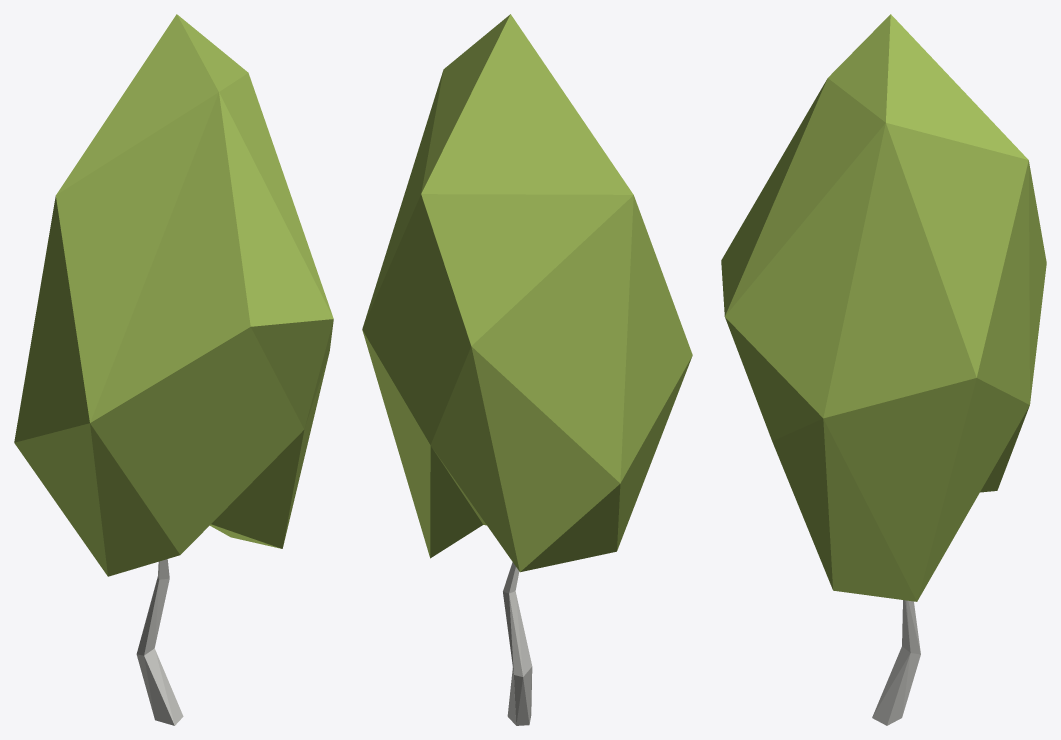
Rendered from AlnusRubra.glb.
The picture shows the model from 3 angles, left to right: view 1: azimuth 30°, elevation 25°; view 2: azimuth 150°, elevation 25°; view 3: azimuth 270°, elevation 25°; orthographic projection.
Parts seen in each view (by area): view 1: Crown, Trunk; view 2: Crown, Trunk; view 3: Crown, Trunk.
Boxes of the visible parts, left/top/right/bottom form: Crown: left=14, top=14, right=333, bottom=576; Trunk: left=136, top=559, right=183, bottom=725; Crown: left=362, top=14, right=692, bottom=572; Trunk: left=503, top=562, right=532, bottom=725; Crown: left=721, top=14, right=1046, bottom=601; Trunk: left=872, top=600, right=920, bottom=725.
Bounding box in the file's own units: 8.68 × 22.8 × 9.48.
